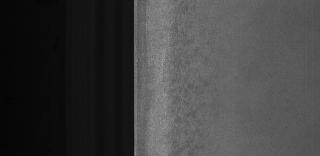silk spot: (164, 21, 212, 146)
